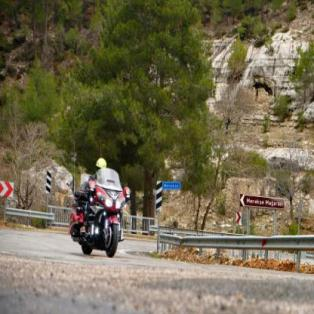Motocicleta: (60, 163, 135, 266)
